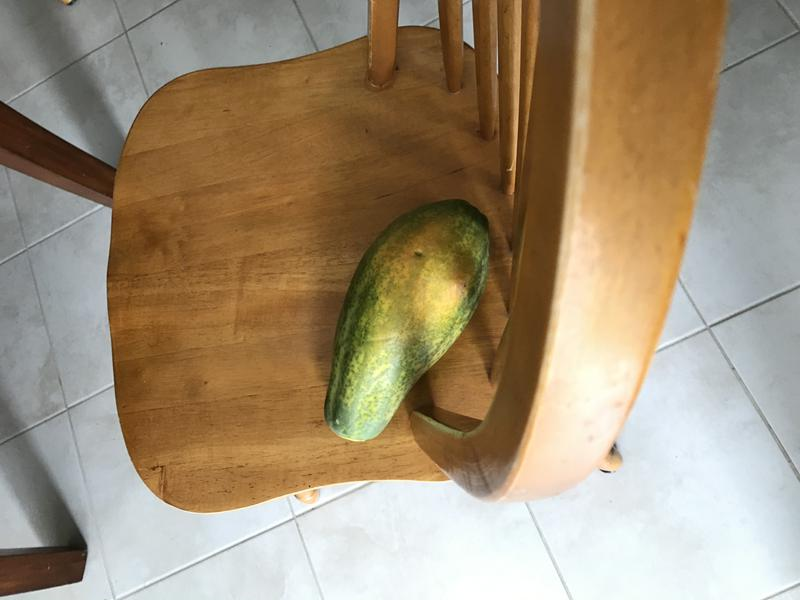papaya: (320, 195, 496, 455)
